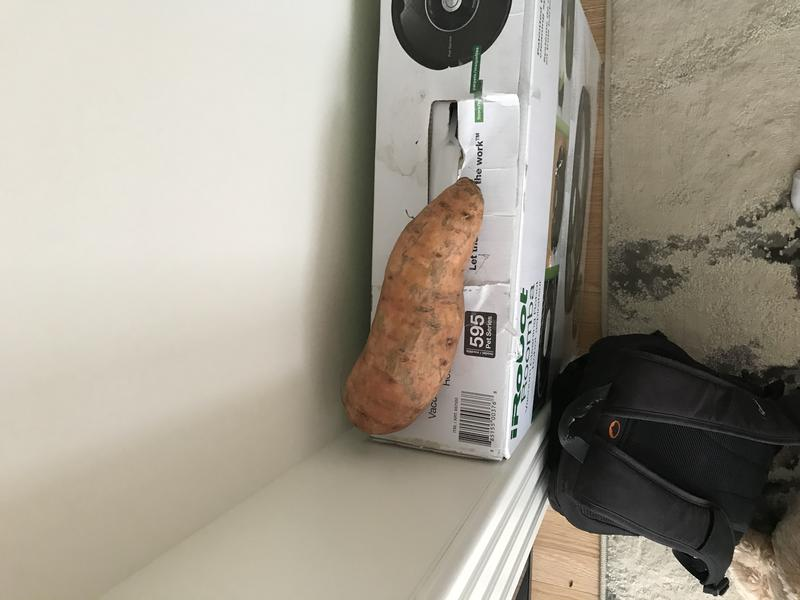sweet_potato: (334, 163, 496, 447)
